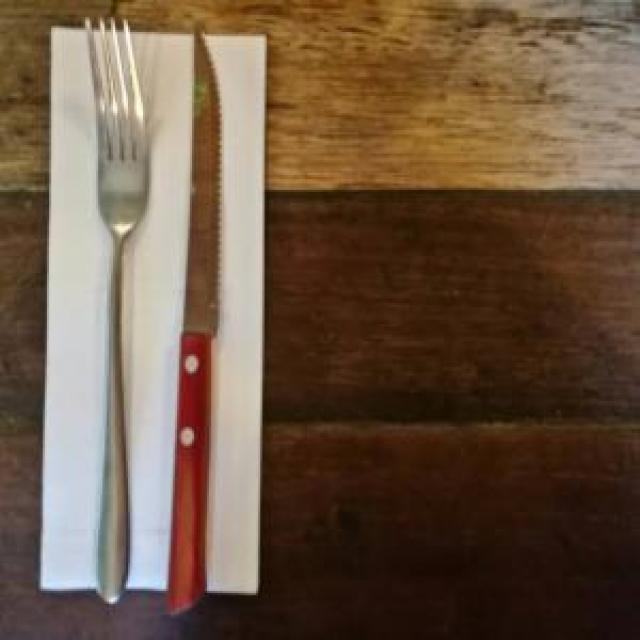knife: (156, 21, 227, 616)
